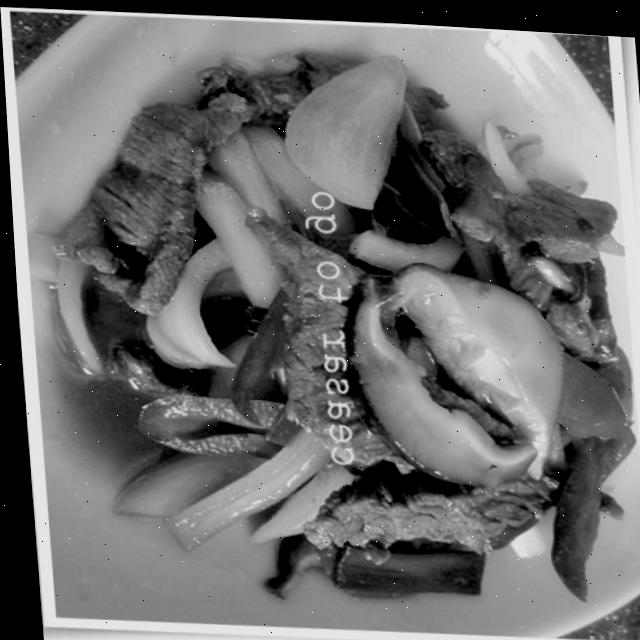牛肉菜式: (26, 16, 639, 621)
